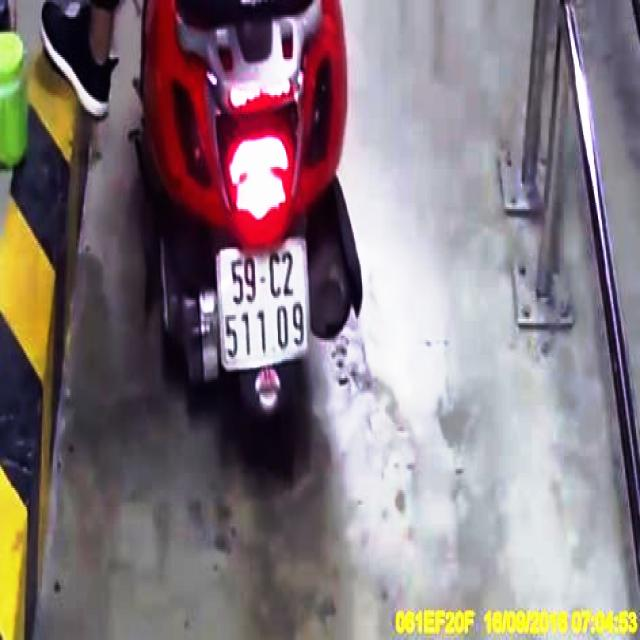license_plate: (218, 241, 310, 369)
